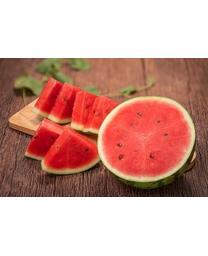watermelon: (99, 94, 195, 189), (25, 77, 109, 173)
